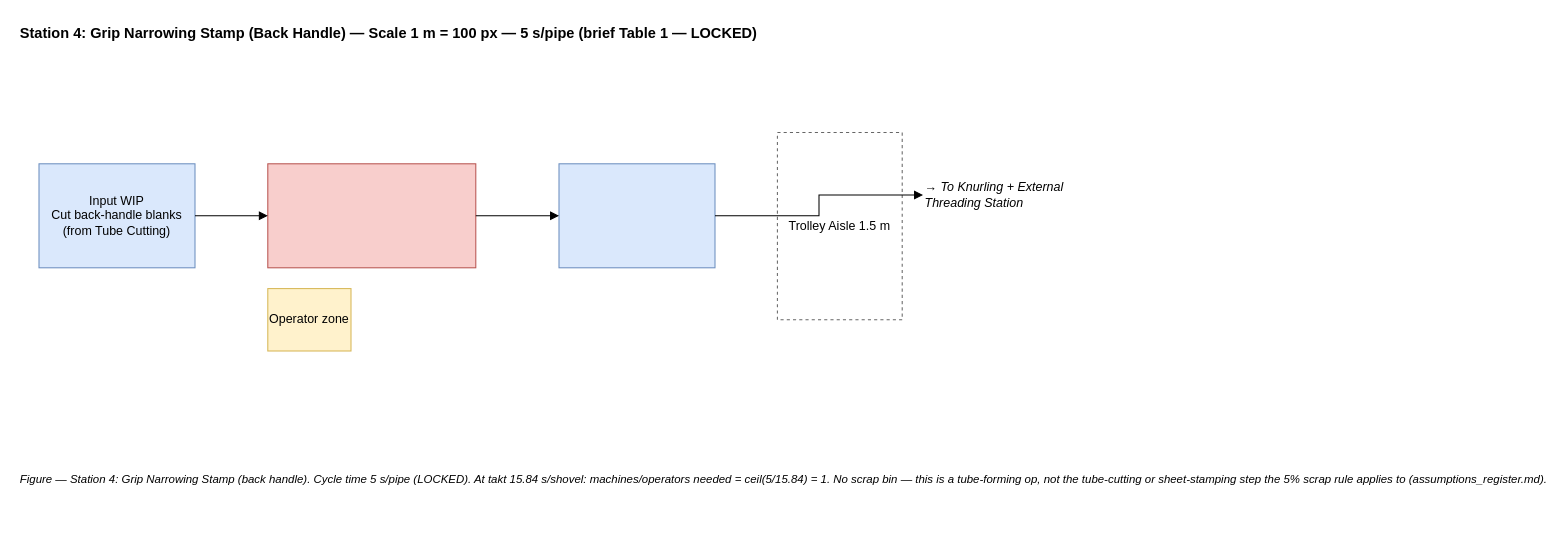
This 1564x545 diagram has some shape labels left out. The centre of each missing label's shape, as x and y in pixels:
Narrowing/Forming Press footprint ~1.2 x 0.8 m SUPPLIER-BASED ESTIMATE REQUIRED: point 371,215
Output WIP Narrowed grip ends: point 636,215
